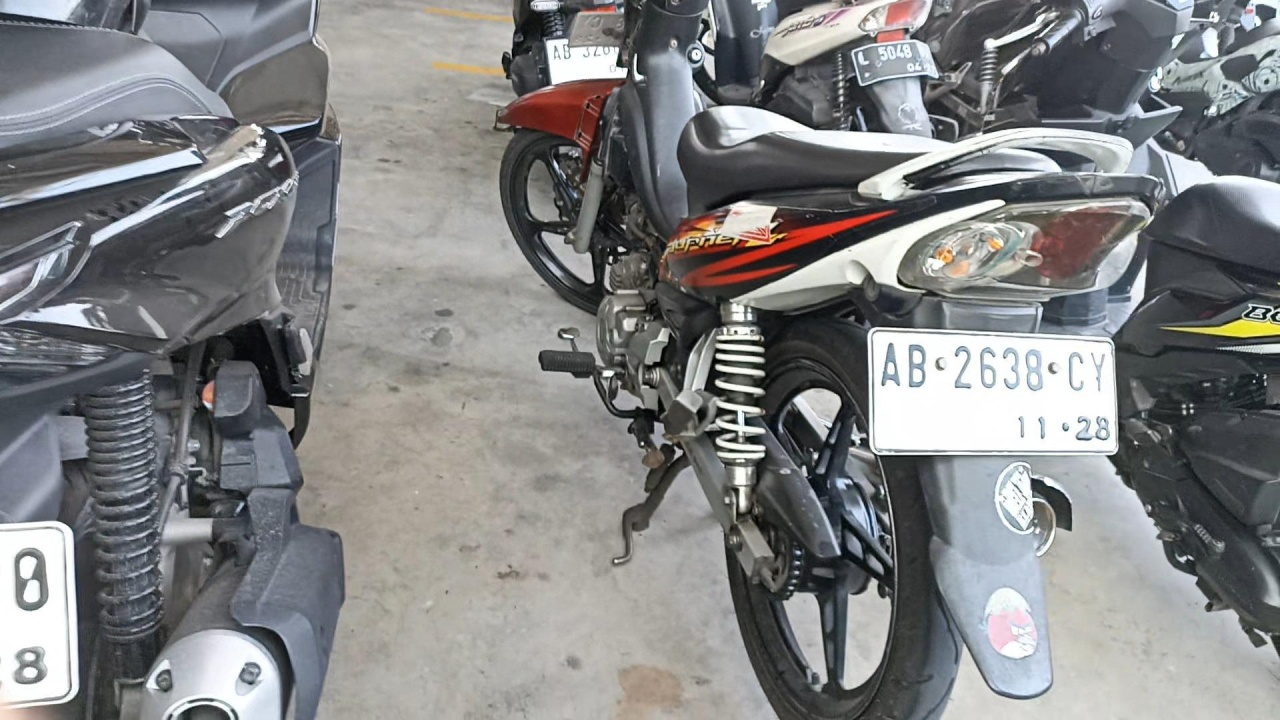plate: (871, 330, 1118, 452)
